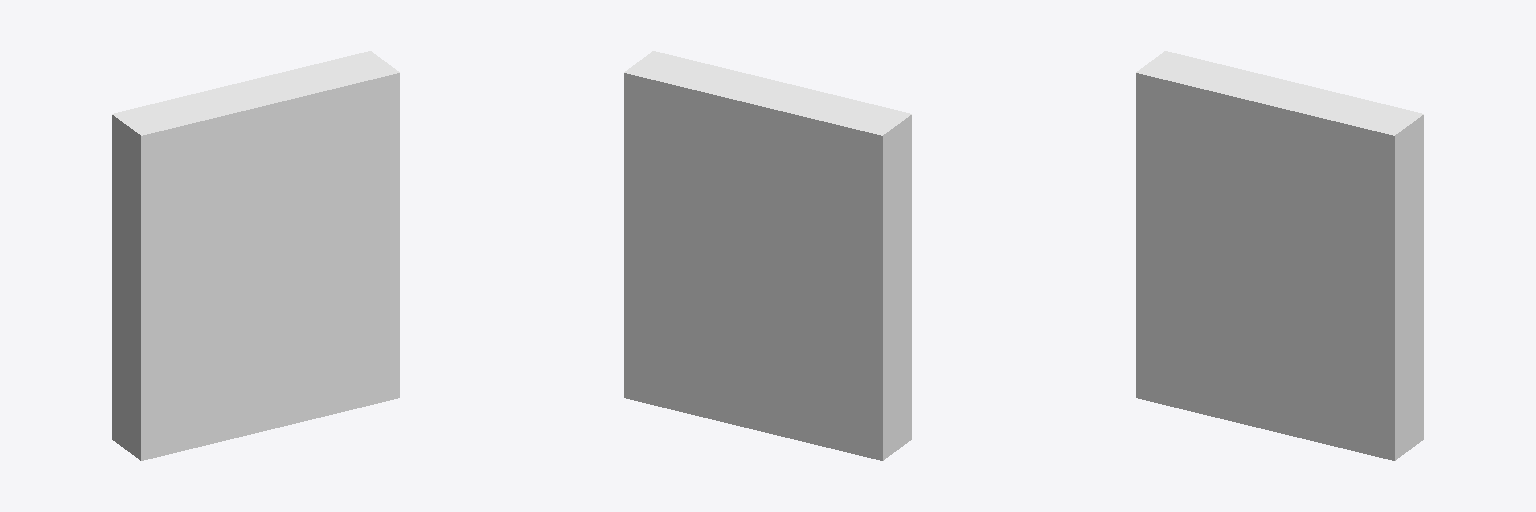
Rendered from apt:box.obj.
3 renders of one model, left to right at view 1: azimuth 30°, elevation 25°; view 2: azimuth 150°, elevation 25°; view 3: azimuth 330°, elevation 25°, orthographic.
Parts seen in each view (by area): view 1: apt:box; view 2: apt:box; view 3: apt:box.
Boxes of the visible parts, <box> form: apt:box: <box>112,51,399,460</box>; apt:box: <box>624,51,911,460</box>; apt:box: <box>1136,51,1423,460</box>.
Bounding box in the file's own units: 5 × 6 × 1.